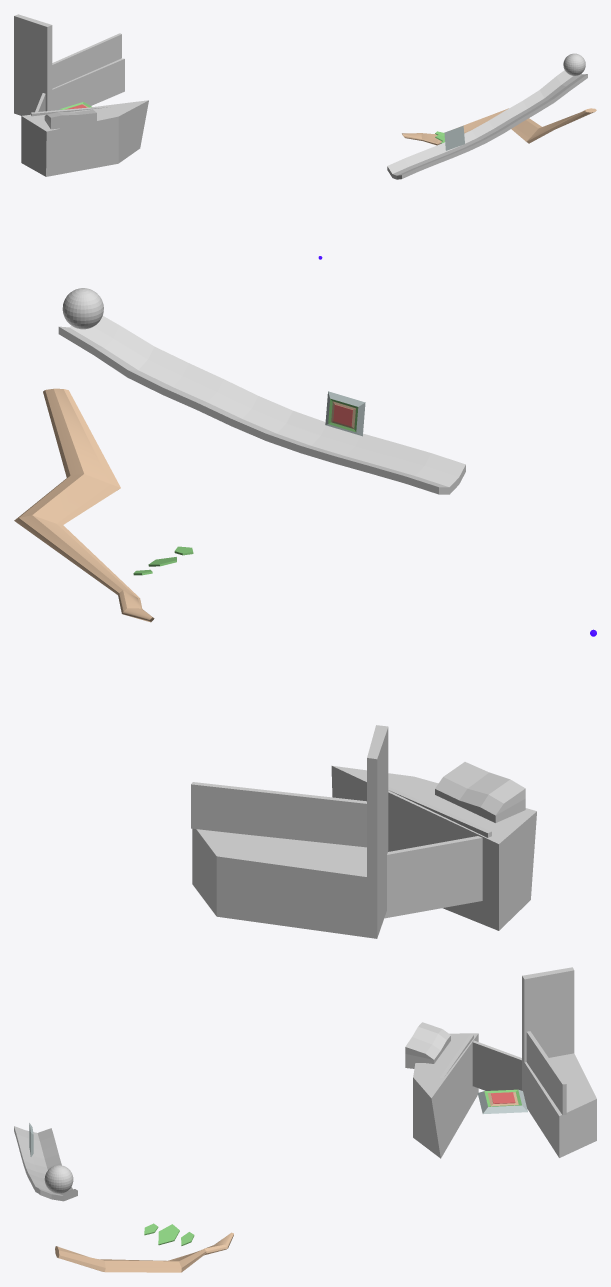
Rendered from ExportTestMycelinkAdd.fbx.
3 renders of one model, top to bottom at view 1: azimuth 30°, elevation 25°; view 2: azimuth 150°, elevation 25°; view 3: azimuth 270°, elevation 25°, orthographic. The views are drawn at different scales.
Parts seen in each view (by area): view 1: Cube.003, Cube.002, Cube.006, Cube.005, Cylinder__4__1.001, Cube.007, Sphere.002, Cube__8_.001; view 2: Cube.002, Cube.006, Cube.003, Cylinder__4__1.001, Cube.005, Cube.001, Cube.007, Sphere.002, Cube__8_.001; view 3: Cube.002, Cube.003, Cylinder__4__1.001, Cube.006, Cube.001, Cube.005, Cube.007, Cube__12_.001, Sphere.002.
Part boxes in pixels (box(x1,y1,x2,y2)): Cube.003: box(21, 100, 148, 176); Cube.002: box(14, 14, 124, 115); Cube.006: box(387, 70, 587, 179); Cube.005: box(52, 33, 121, 88); Cylinder__4__1.001: box(402, 108, 596, 145); Cube.007: box(44, 109, 96, 132); Sphere.002: box(563, 53, 585, 75); Cube__8_.001: box(444, 125, 464, 150); Cube.002: box(192, 725, 388, 938); Cube.006: box(58, 316, 465, 494); Cube.003: box(331, 765, 536, 930); Cylinder__4__1.001: box(14, 388, 154, 622); Cube.005: box(191, 782, 366, 847); Cube.001: box(384, 836, 482, 918); Cube.007: box(435, 762, 525, 822); Sphere.002: box(62, 288, 103, 329); Cube__8_.001: box(325, 391, 365, 436); Cube.002: box(522, 967, 596, 1157); Cube.003: box(413, 1033, 478, 1158); Cylinder__4__1.001: box(55, 1232, 233, 1272); Cube.006: box(14, 1126, 77, 1201); Cube.001: box(472, 1040, 521, 1090); Cube.005: box(526, 1031, 566, 1114); Cube.007: box(405, 1022, 450, 1068); Cube__12_.001: box(477, 1089, 527, 1114); Sphere.002: box(44, 1165, 73, 1193).
Size of the model in its own units: 15144 by 4685 by 14497.
